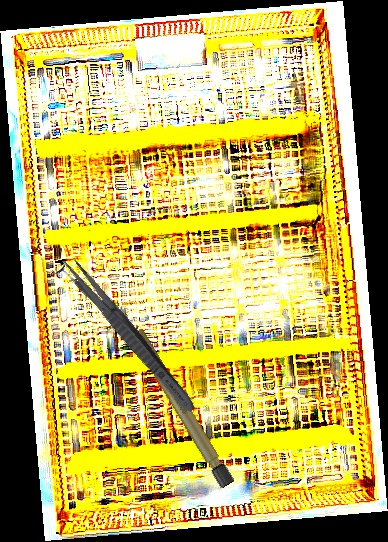Dressing Forceps: (57, 251, 201, 417)
Fixation Ring: (51, 259, 146, 351)
Scalpel Handle: (114, 301, 236, 490)
